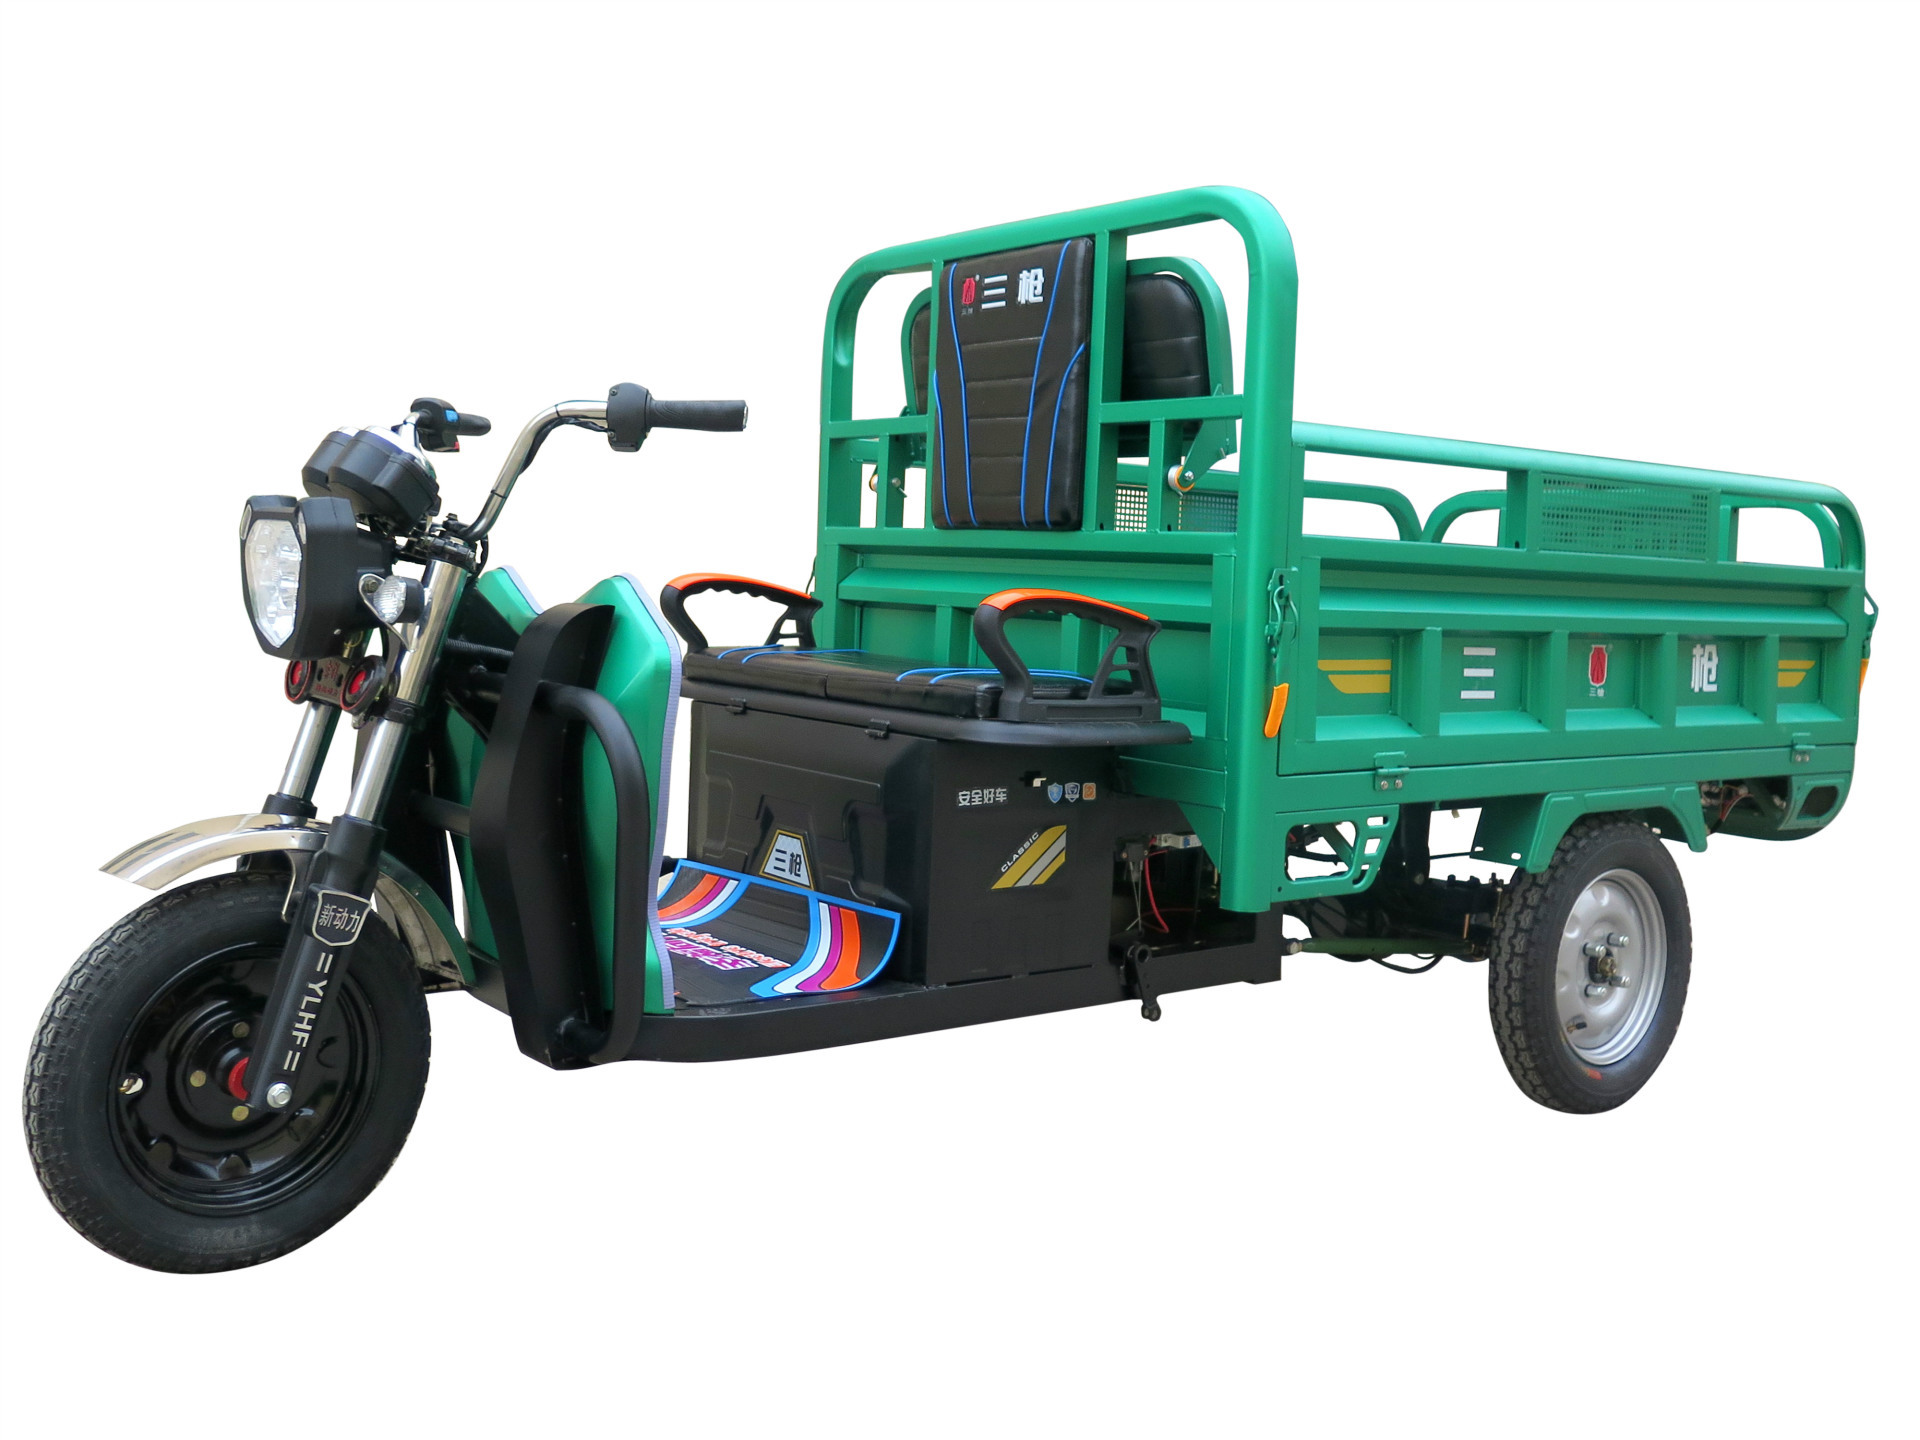MNV: (32, 186, 1872, 1255)
